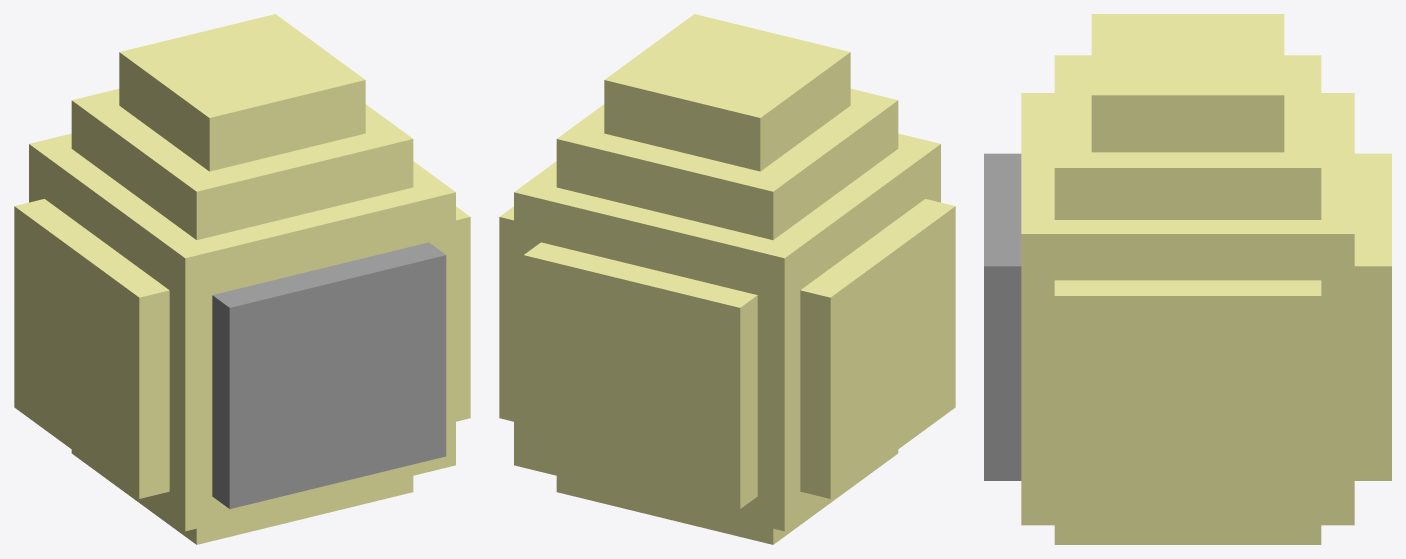
File: 62.T-Rex.fbx
3 renders of one model, left to right at view 1: azimuth 30°, elevation 25°; view 2: azimuth 150°, elevation 25°; view 3: azimuth 270°, elevation 25°, orthographic. The views are drawn at different scales.
Parts seen in each view (by area): view 1: T_Rex; view 2: T_Rex; view 3: T_Rex.
Boxes of the visible parts, x1,y1,x2,y2 form: T_Rex: (14, 14, 470, 544); T_Rex: (499, 14, 955, 544); T_Rex: (984, 14, 1391, 544).
Bounding box in the file's own units: 2.89 × 3.39 × 2.89.
